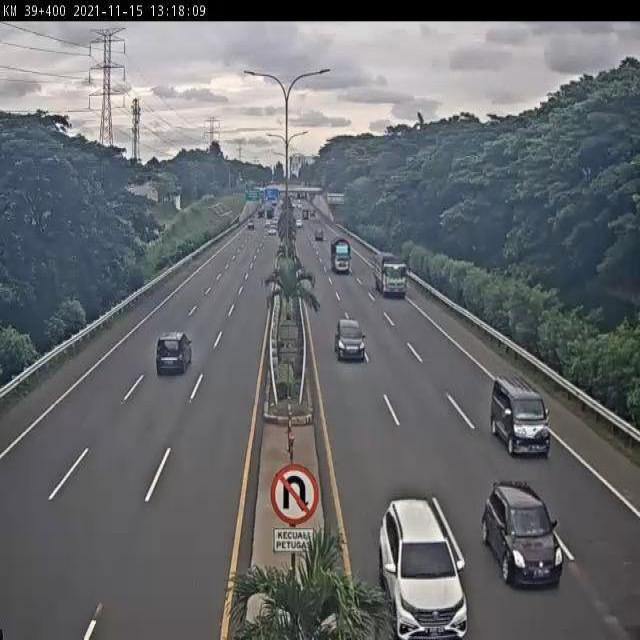car: (377, 498, 470, 640), (481, 479, 564, 591), (490, 373, 552, 460), (155, 328, 194, 376), (335, 316, 367, 363)
truck: (372, 251, 408, 296)
